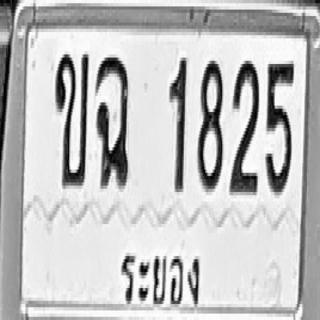A02: (54, 50, 89, 187)
A09: (95, 54, 129, 189)
N01: (168, 54, 186, 192)
N02: (229, 58, 259, 195)
N05: (265, 61, 294, 195)
N08: (197, 58, 222, 192)
P53: (113, 238, 203, 320)
